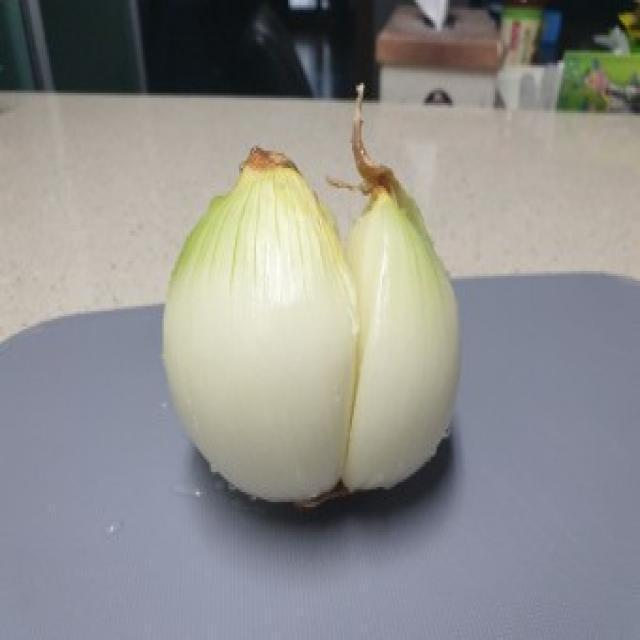Onion: (156, 82, 468, 517)
